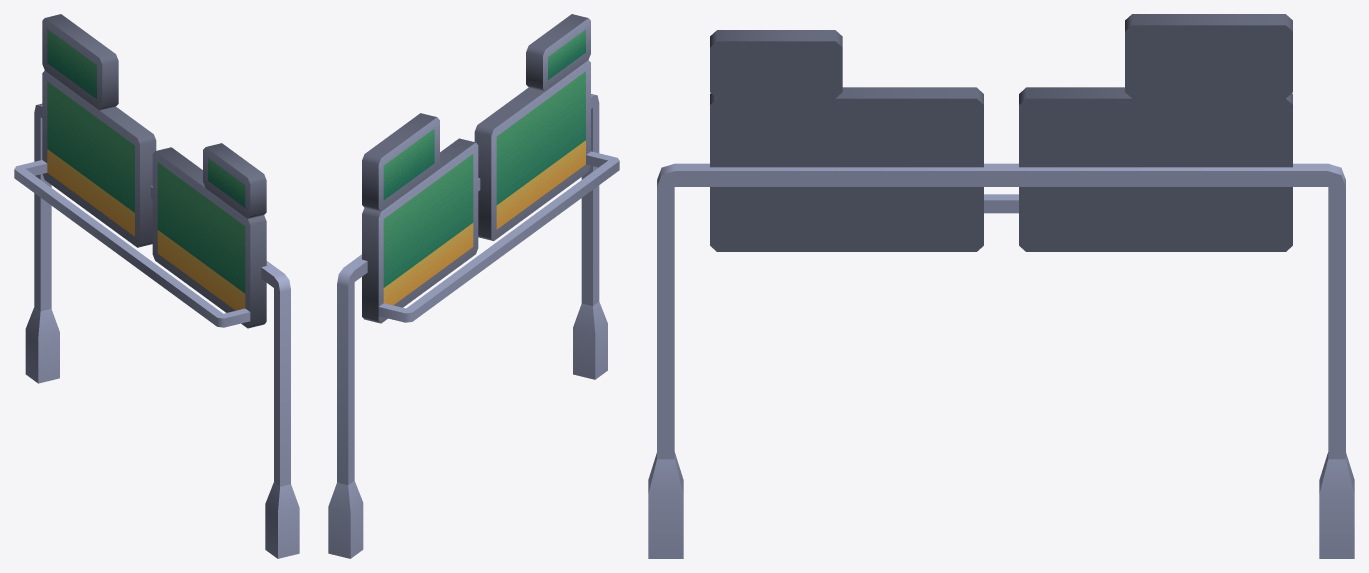
The model's file is sign-highway-detailed.gltf.
3 renders of one model, left to right at view 1: azimuth 30°, elevation 25°; view 2: azimuth 150°, elevation 25°; view 3: azimuth 270°, elevation 25°, orthographic. The views are drawn at different scales.
Visible parts, largest first — view 1: sign-highway-detailed; view 2: sign-highway-detailed; view 3: sign-highway-detailed.
Part boxes in pixels (bbox=[...]): sign-highway-detailed: bbox=[14, 14, 299, 558]; sign-highway-detailed: bbox=[328, 14, 619, 558]; sign-highway-detailed: bbox=[648, 14, 1354, 558].
Bounding box in the file's own units: 0.1324 × 0.8221 × 1.
1 material, 1 textured.
